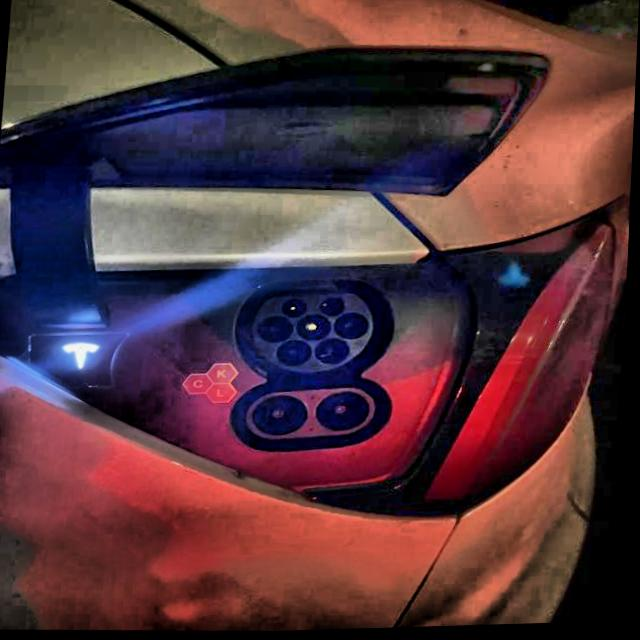inlet: (255, 295, 376, 374)
inlet-above-left: (285, 301, 311, 320)
inlet-above-right: (323, 299, 348, 318)
inlet-below-left: (280, 341, 315, 368)
inlet-below-right: (317, 339, 352, 366)
inlet-center: (299, 315, 334, 342)
inlet-center-left: (260, 317, 296, 344)
inlet-center-right: (337, 314, 372, 342)
